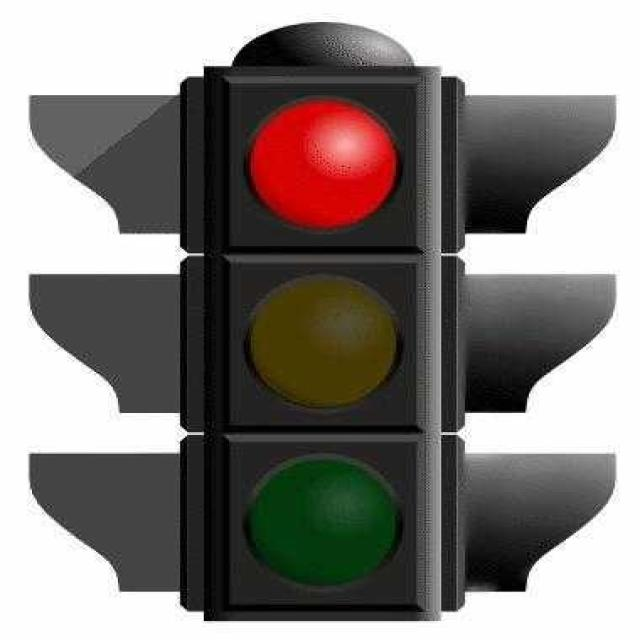Traffic Light -Red-: (178, 42, 454, 627)
